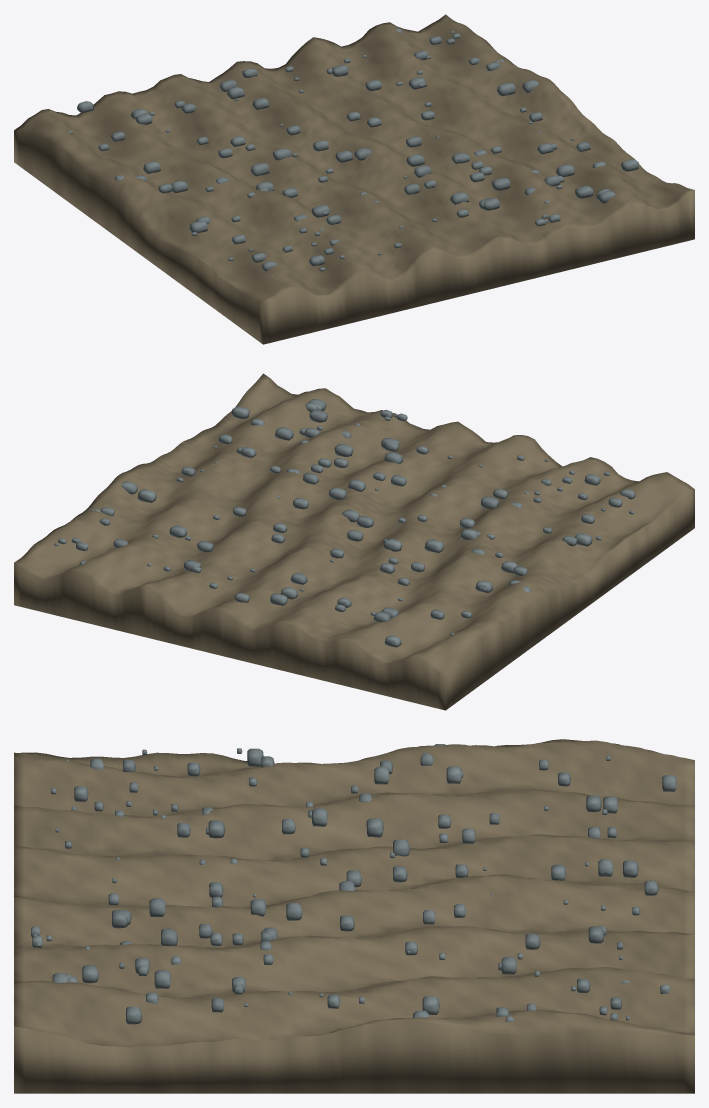
Rendered from sand-pebble-bed-v2.glb.
3 views of the same model, one above another, from view 1: azimuth 30°, elevation 25°; view 2: azimuth 150°, elevation 25°; view 3: azimuth 270°, elevation 25° (orthographic). The views are drawn at different scales.
Parts seen in each view (by area): view 1: sand-pebble-bed-v2; view 2: sand-pebble-bed-v2; view 3: sand-pebble-bed-v2.
Boxes of the visible parts, left/top/right/bottom form: sand-pebble-bed-v2: left=14, top=14, right=694, bottom=344; sand-pebble-bed-v2: left=14, top=373, right=694, bottom=710; sand-pebble-bed-v2: left=14, top=739, right=694, bottom=1093.
Size of the model in its own units: 2 by 0.2377 by 2.
